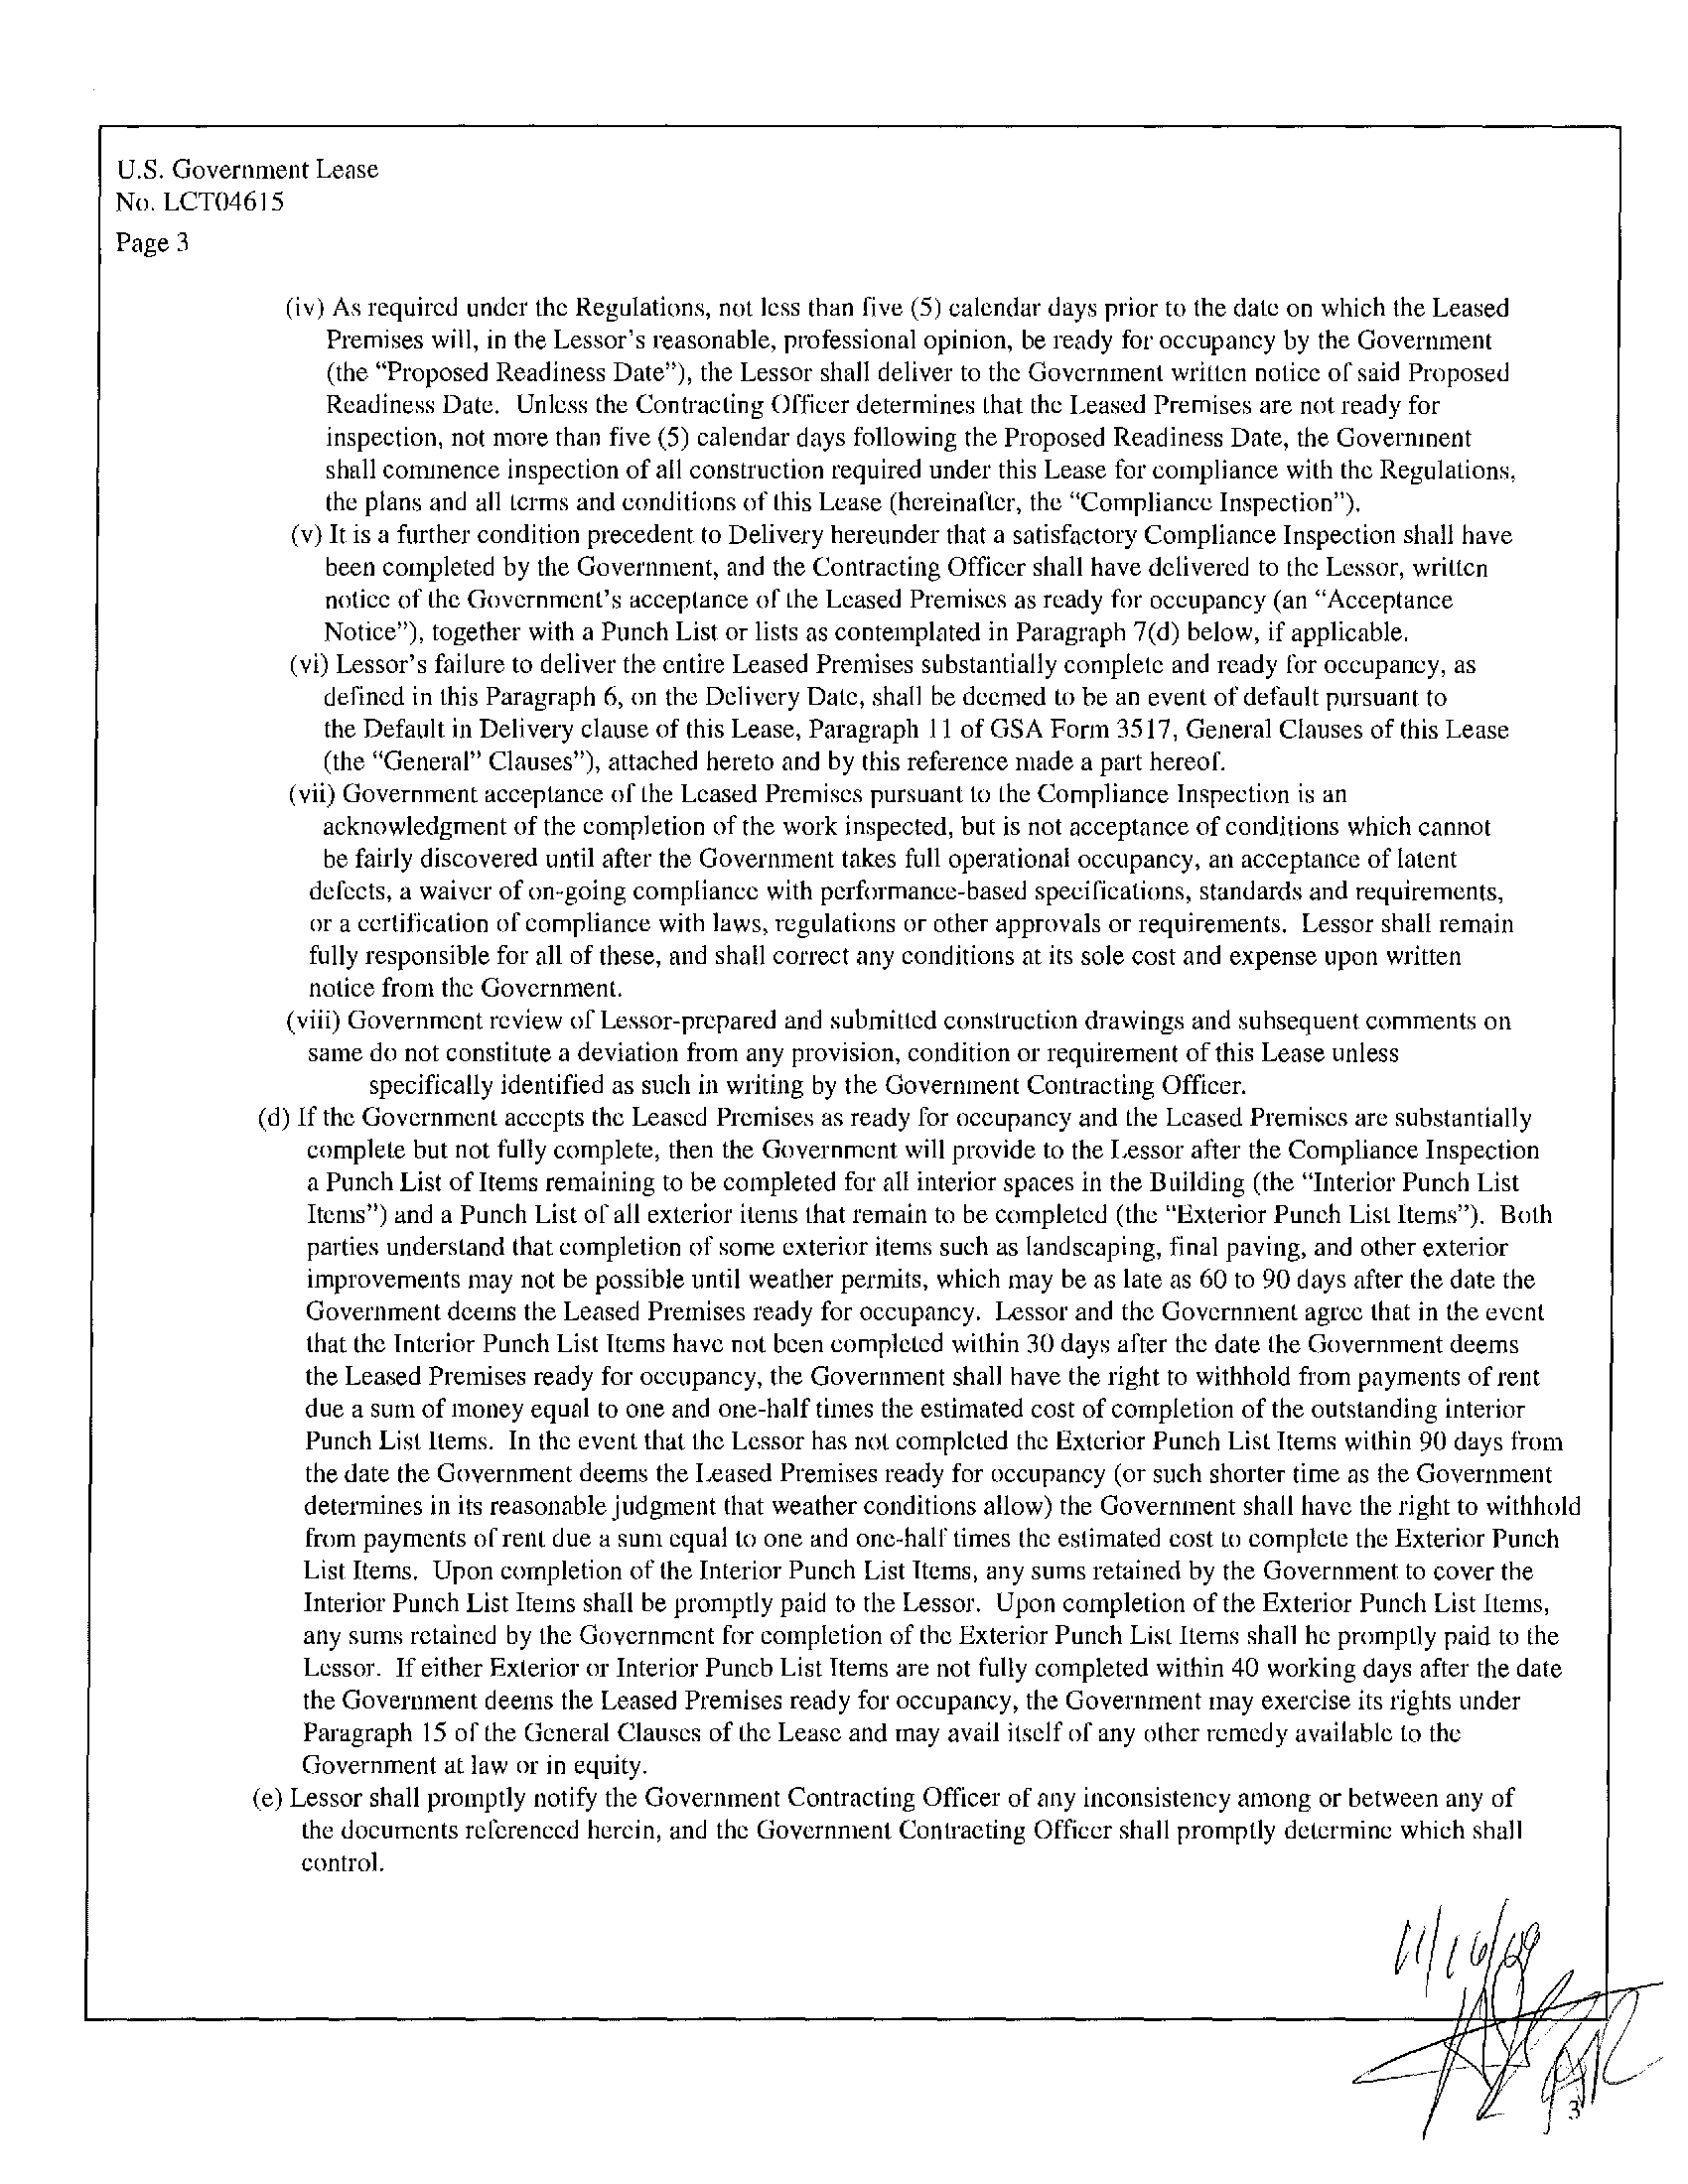handwritten: (1321, 1891, 1661, 2141)
